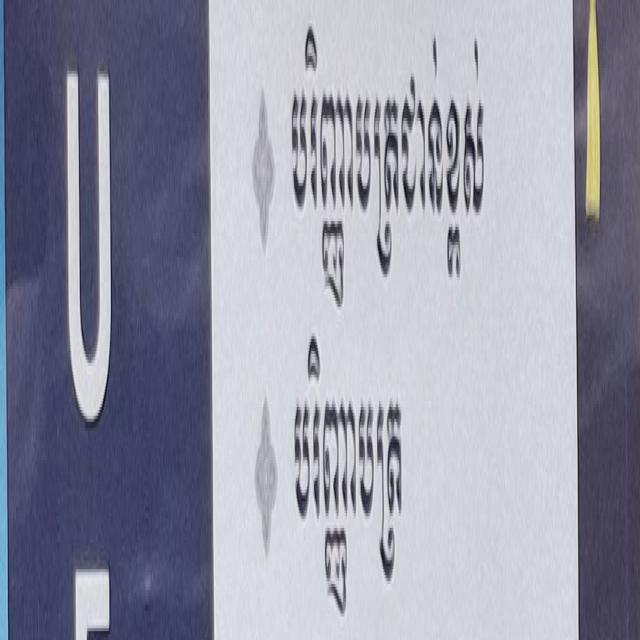Yolov11_80vkh: (278, 18, 493, 345), (272, 321, 416, 619)
